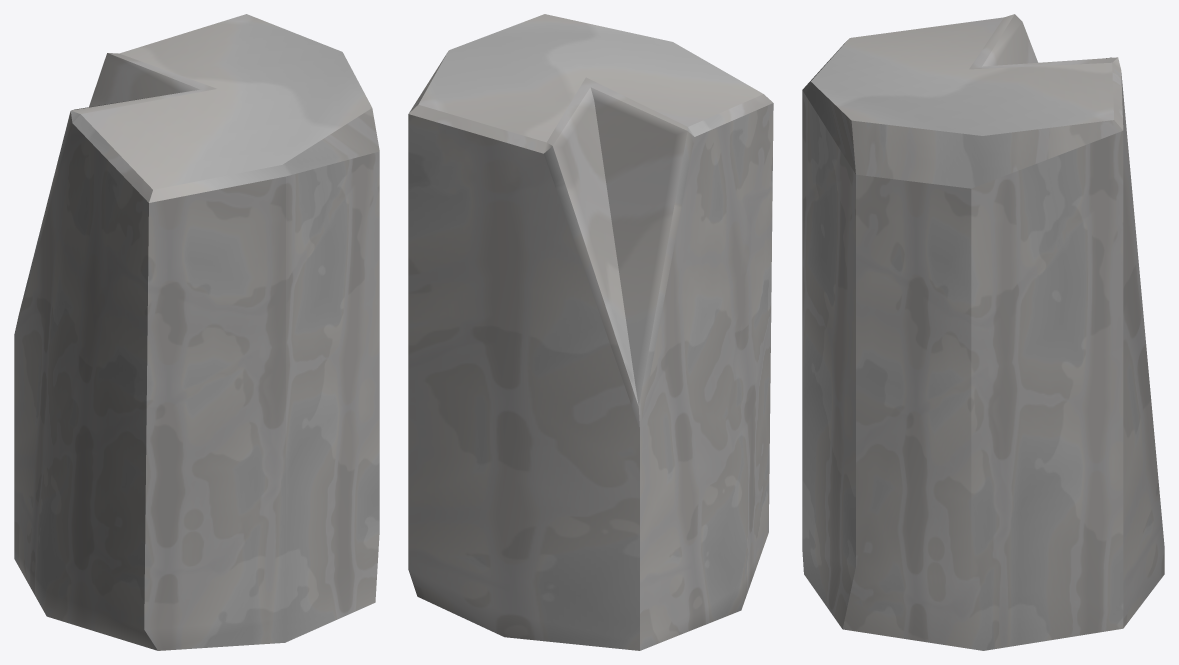
File: Pillar_Tiny.fbx
3 renders of one model, left to right at view 1: azimuth 30°, elevation 25°; view 2: azimuth 150°, elevation 25°; view 3: azimuth 270°, elevation 25°, orthographic. The views are drawn at different scales.
Parts seen in each view (by area): view 1: pasted__Pillar_Small2; view 2: pasted__Pillar_Small2; view 3: pasted__Pillar_Small2.
Part boxes in pixels (x1=…): pasted__Pillar_Small2: x1=14, y1=14, x2=379, y2=650; pasted__Pillar_Small2: x1=408, y1=14, x2=773, y2=650; pasted__Pillar_Small2: x1=802, y1=14, x2=1164, y2=650.
Size of the model in its own units: 129 by 200 by 128.
